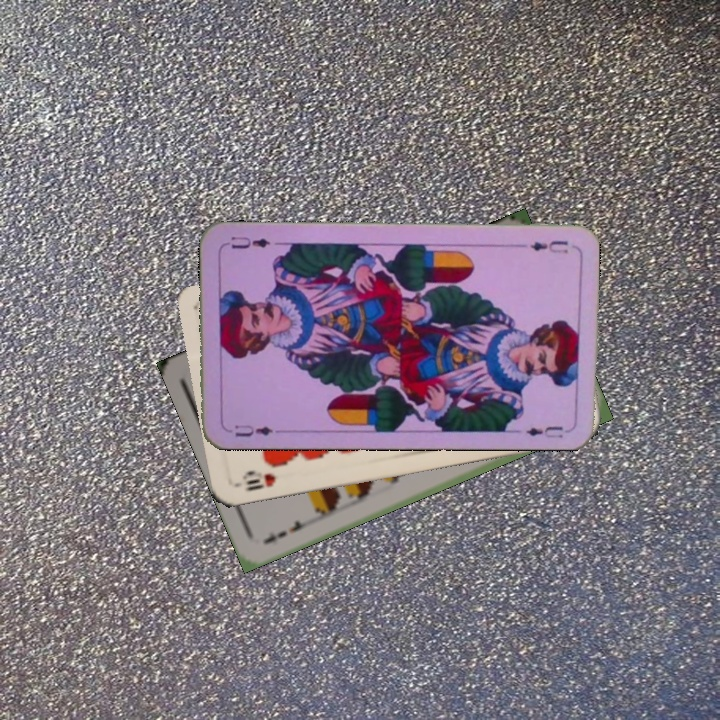E7: (259, 514, 315, 547)
EU: (231, 421, 283, 439), (526, 237, 571, 256)
H10: (233, 469, 278, 494)
